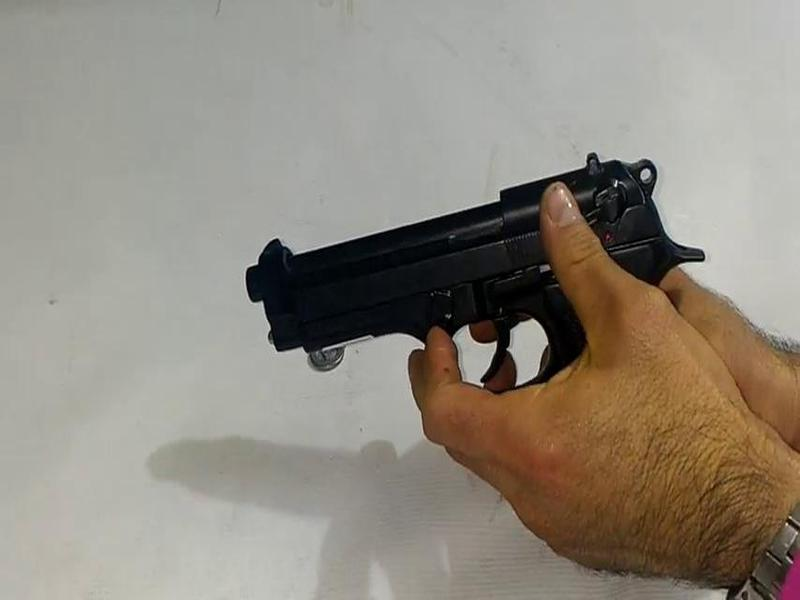Pistola: (230, 133, 730, 417)
